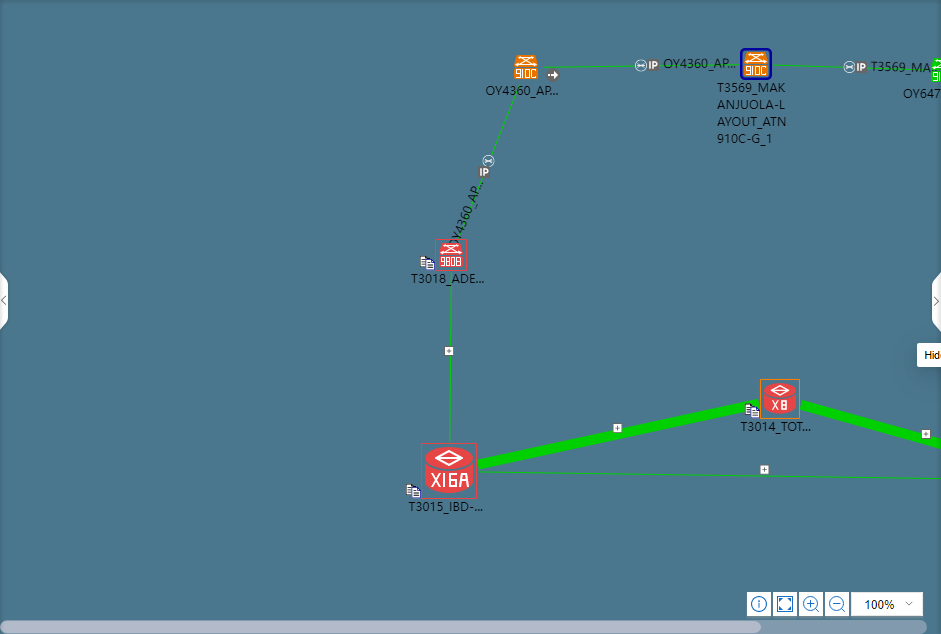ATN_Orange: (743, 51, 769, 76), (513, 55, 537, 79)
ATN_Red: (438, 241, 462, 268)
Link_Green: (478, 399, 760, 469), (454, 84, 524, 237), (800, 400, 941, 450), (479, 471, 941, 481), (773, 63, 930, 71), (544, 63, 740, 69), (448, 273, 453, 442)
Router_Red: (422, 445, 476, 499), (762, 383, 797, 415)
